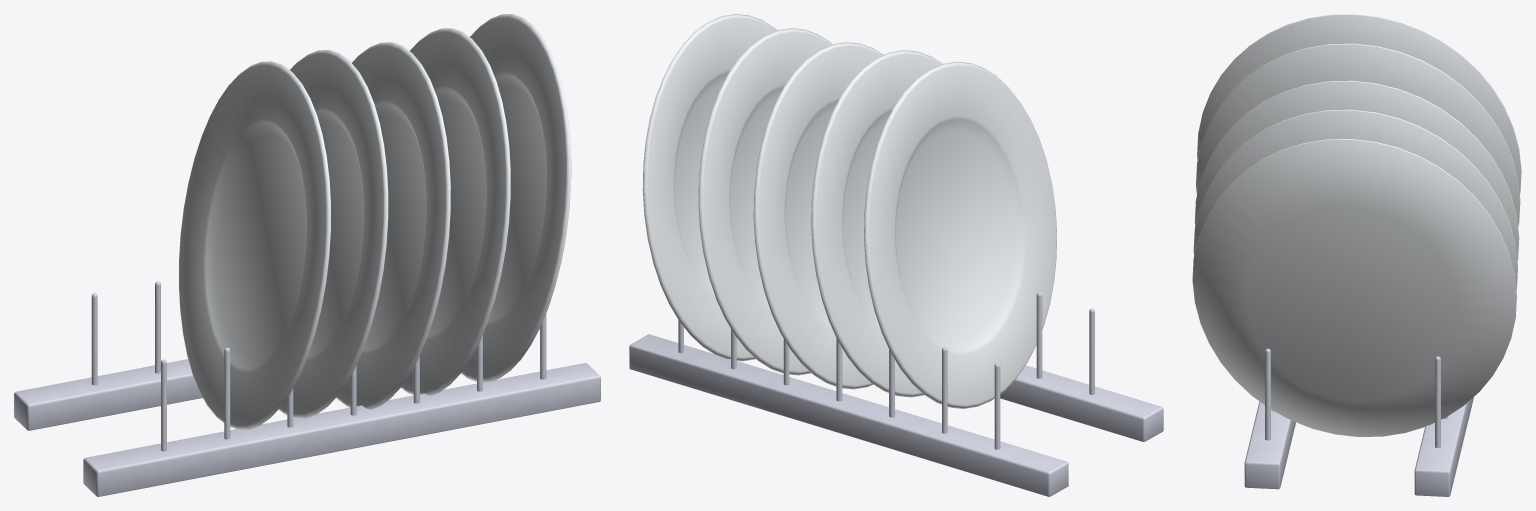
The model's file is aws_Tableware_01_visual.DAE.
3 views of the same model, side by side, from view 1: azimuth 30°, elevation 25°; view 2: azimuth 150°, elevation 25°; view 3: azimuth 270°, elevation 25° (orthographic). The views are drawn at different scales.
Parts seen in each view (by area): view 1: aws_Tableware_01_visual; view 2: aws_Tableware_01_visual; view 3: aws_Tableware_01_visual.
Boxes of the visible parts, bbox=[...] form: aws_Tableware_01_visual: bbox=[14, 14, 600, 496]; aws_Tableware_01_visual: bbox=[629, 14, 1163, 496]; aws_Tableware_01_visual: bbox=[1192, 14, 1521, 496].
Bounding box in the file's own units: 34.61 × 19.95 × 23.45.
Materials: 1 (1 with a texture image).
